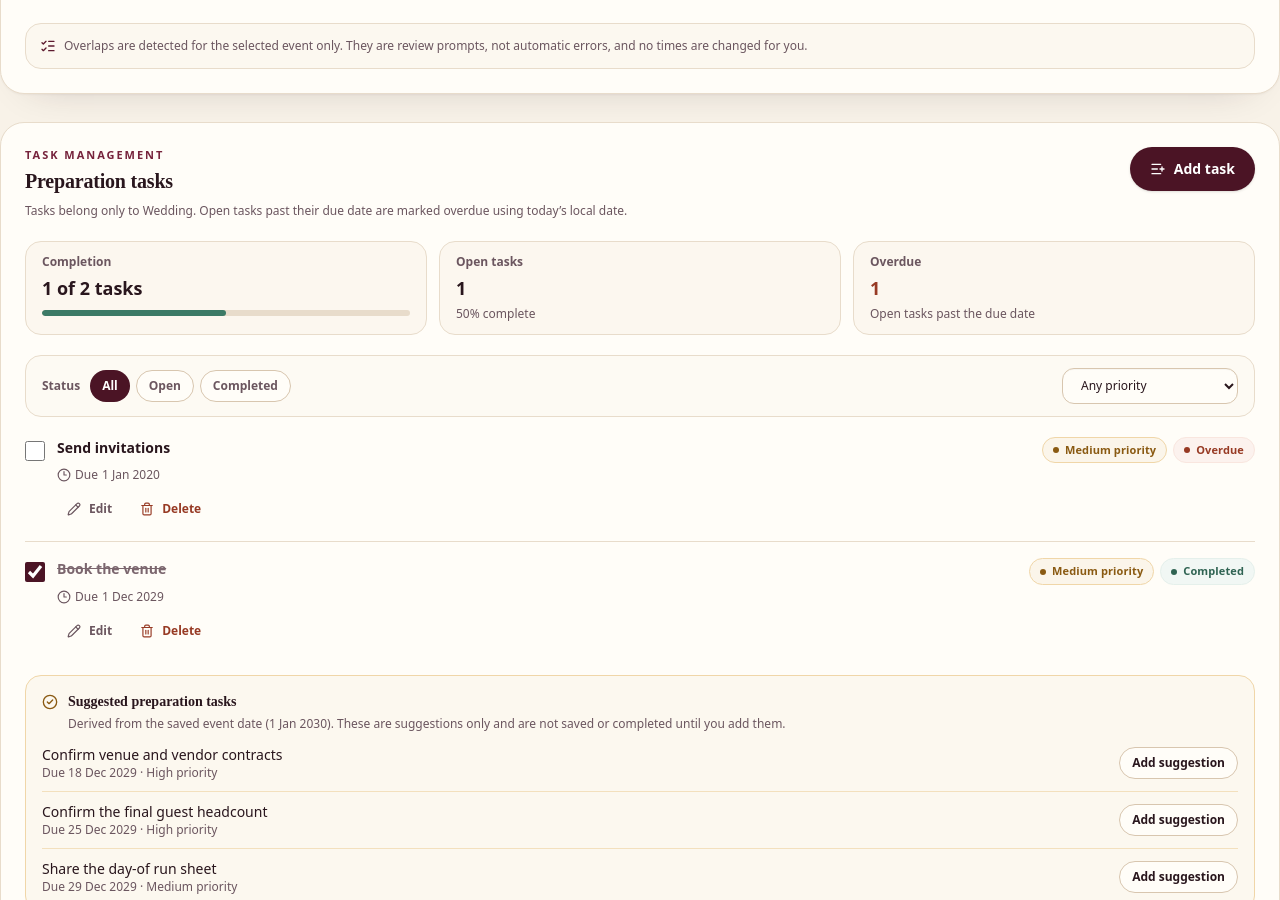
Test: TimelinePage tasks and event isolation › calculates overdue tasks and completion progress from stored state
The width and height of the screenshot is (1280, 900).
(page scrolled)
Check: the text "1 of 2 tasks" is shown, box [42,276,142,300]
Check: the text "Open tasks past the due date" is shown, box [870,305,1035,322]
Click the checkbox labelled "Send invitations" at {"x": 35, "y": 451}, box [25,441,45,461]
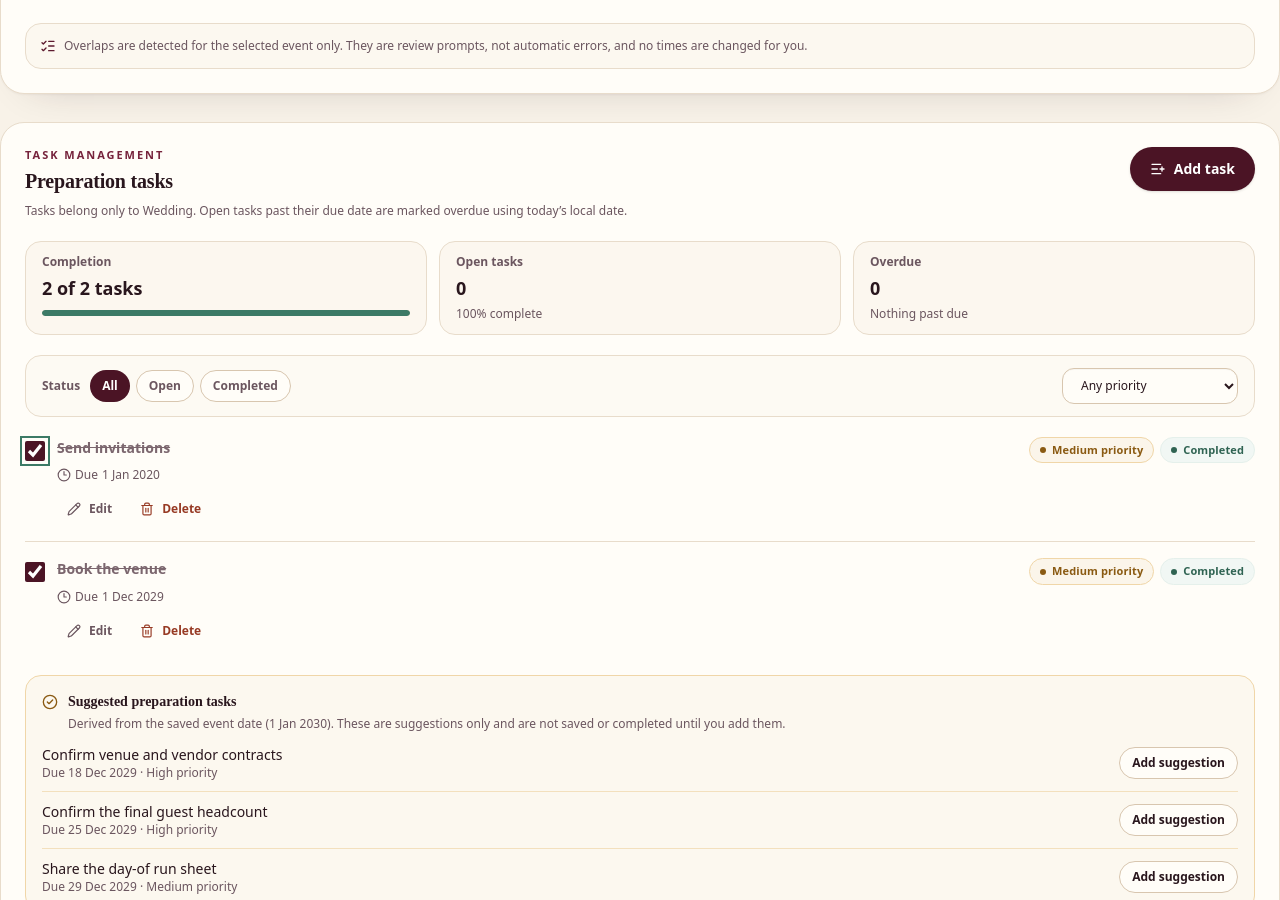
Check: the text "2 of 2 tasks" is shown, box [42,276,142,300]
Check: the text "Nothing past due" is shown, box [870,305,968,322]
Click the button "Open" at {"x": 165, "y": 386}, box [136,370,194,402]
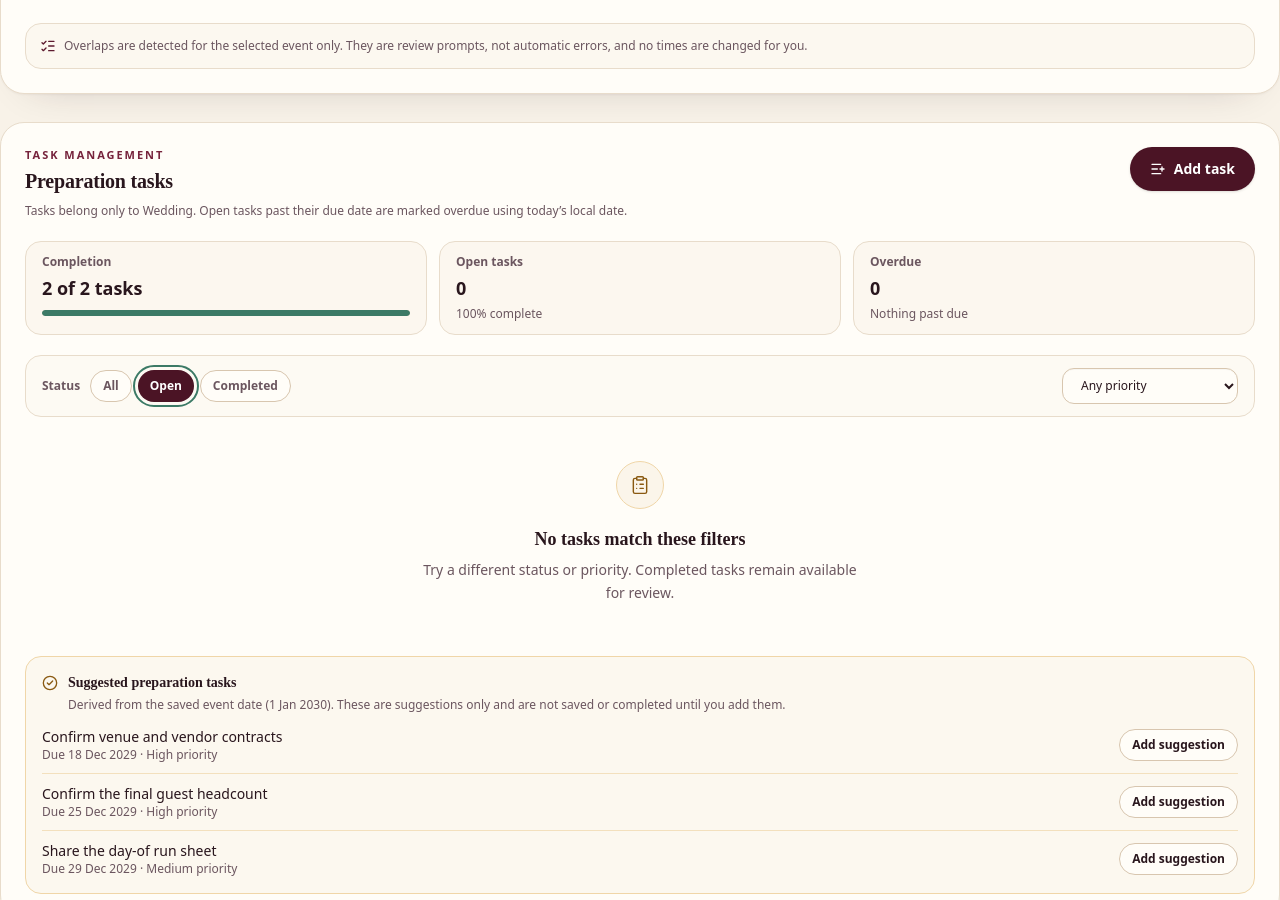
Check: the heading "No tasks match these filters" is shown, box [534,525,746,553]
